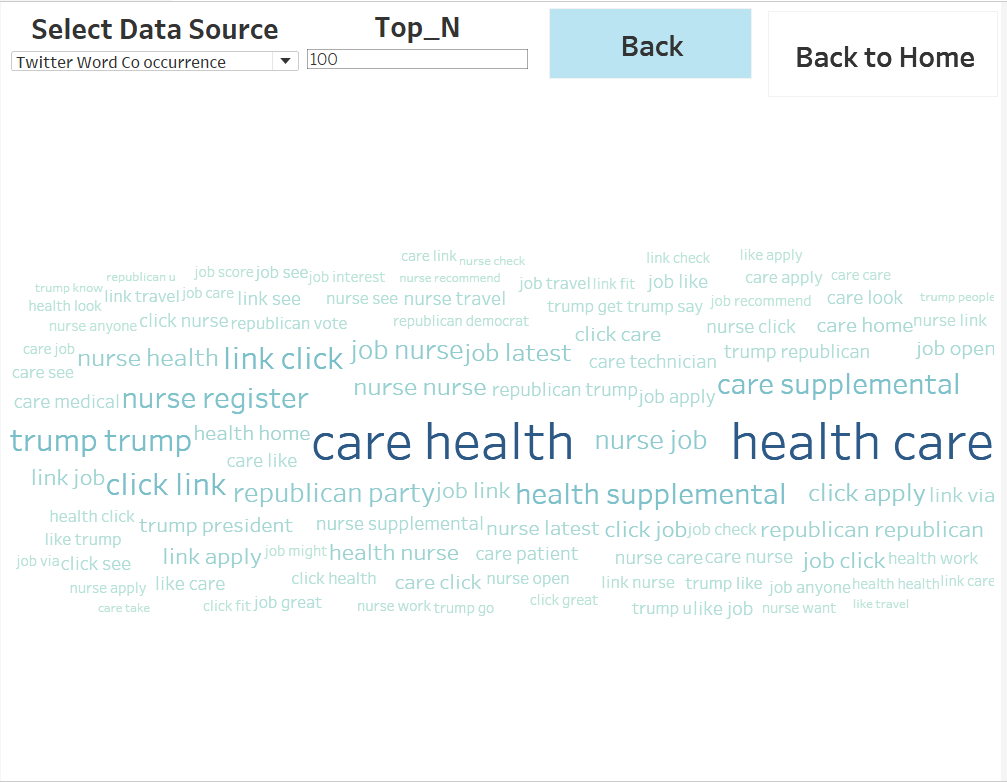

The page's visual inventory and layout, read from the dashboard file:
{"tool":"tableau","page":{"name":"big_wcooc_dash","canvas":[1000,800],"ordinal":3},"visuals":[{"type":"parameter","param":"[Parameters].[Parameter 3]","box":[303,5,227,79]},{"type":"worksheet","title":"Back_1","mark":"Automatic","box":[548,6,203,71]},{"type":"parameter","param":"[Parameters].[Select a View (copy)]","box":[7,7,294,86]},{"type":"worksheet","title":"Back","mark":"Automatic","box":[767,9,230,86]},{"type":"worksheet","title":"big_twitter_co","mark":"Text","box":[7,130,986,643]},{"type":"worksheet","title":"big_cc_co","mark":"Text","box":[9,146,985,623]},{"type":"worksheet","title":"big_ny_co","mark":"Text","box":[6,149,987,624]}]}

Visuals, with their boxes on the page's 1000x800 design canvas (x1, y1, x2, y2). These are canvas units, not pixel positions in the 1007x782 screenshot, which may show the page scaled, cropped or inside an application window:
parameter: {"left": 303, "top": 5, "right": 530, "bottom": 84}
"Back_1" worksheet: {"left": 548, "top": 6, "right": 751, "bottom": 77}
parameter: {"left": 7, "top": 7, "right": 301, "bottom": 93}
"Back" worksheet: {"left": 767, "top": 9, "right": 997, "bottom": 95}
"big_twitter_co" worksheet (Text marks): {"left": 7, "top": 130, "right": 993, "bottom": 773}
"big_cc_co" worksheet (Text marks): {"left": 9, "top": 146, "right": 994, "bottom": 769}
"big_ny_co" worksheet (Text marks): {"left": 6, "top": 149, "right": 993, "bottom": 773}
